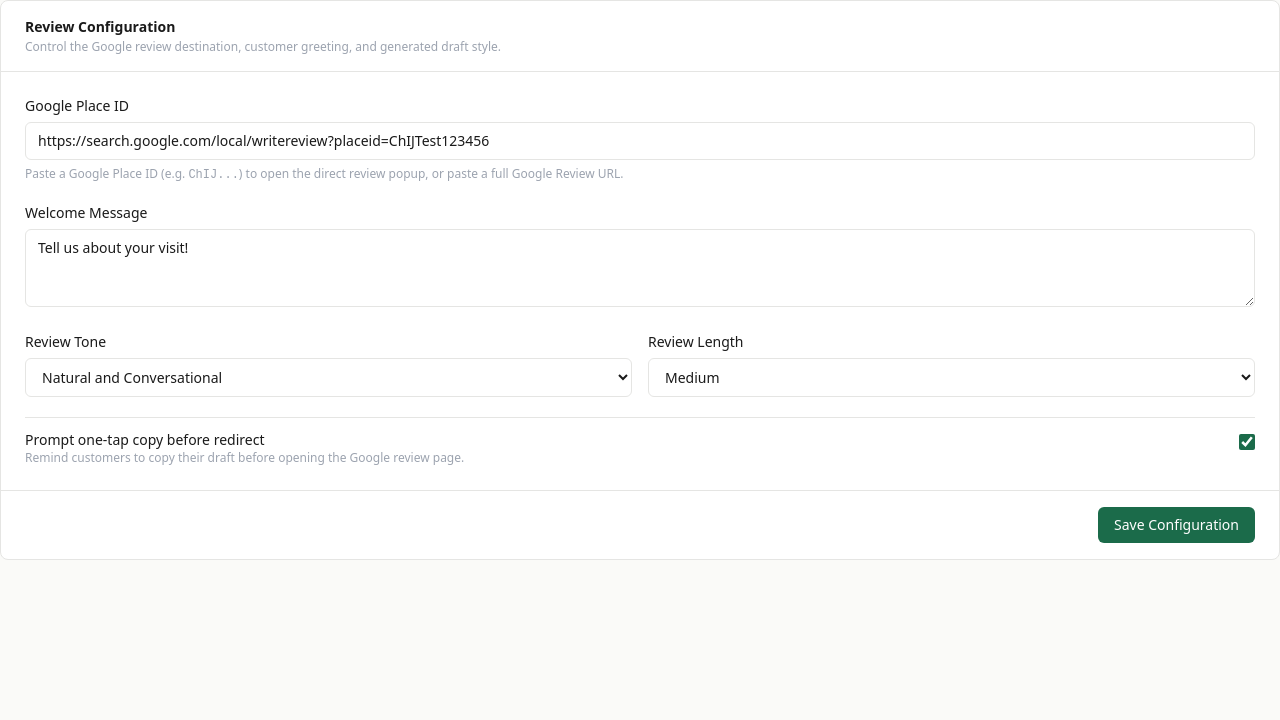
it: ReviewBuddy Frontend V1 Regression Tests › 2. ReviewConfigTab awaits save, shows error on failure without false success notice
Later steps or results of the test are not shown.
Click the button "Save Configuration".
click(1176, 525)  # box [1098,507,1255,543]
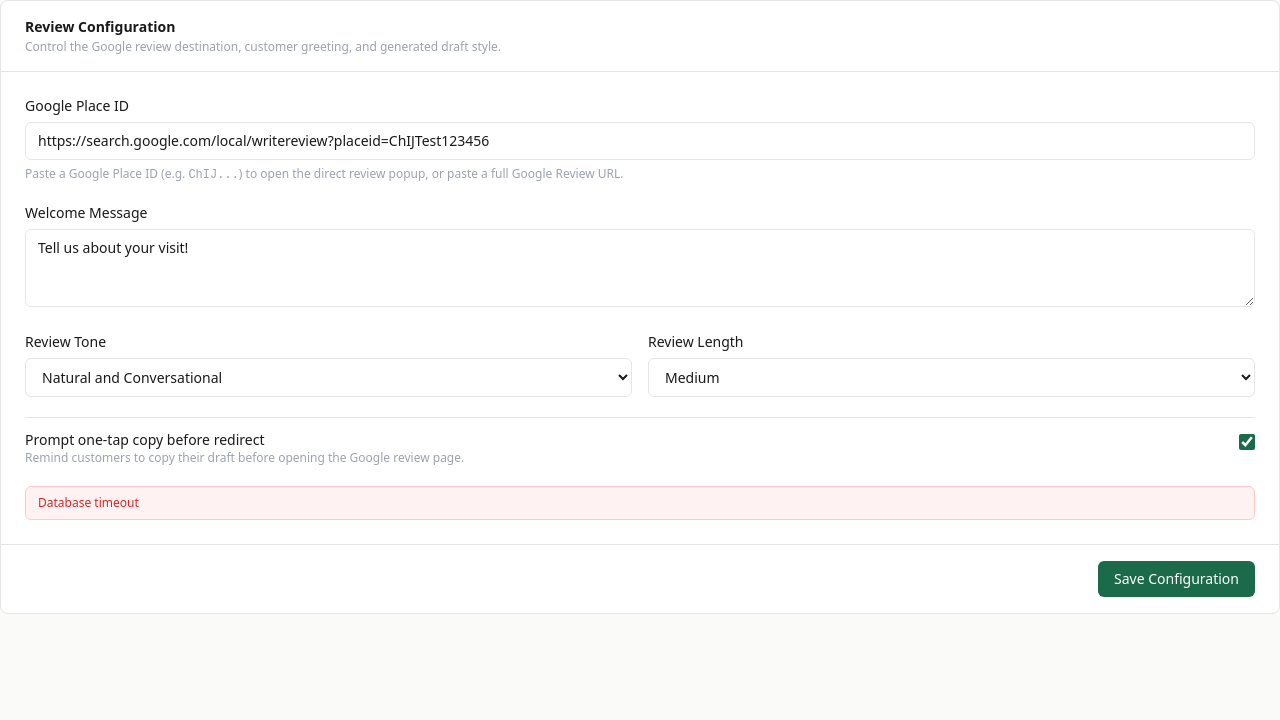
Check: the message reads "Database timeout", box [38,494,139,511]
